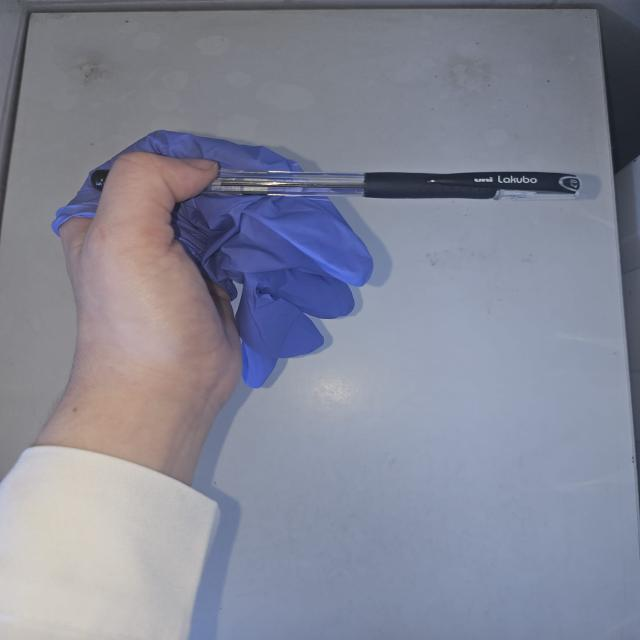glove_partial: (49, 128, 376, 390)
